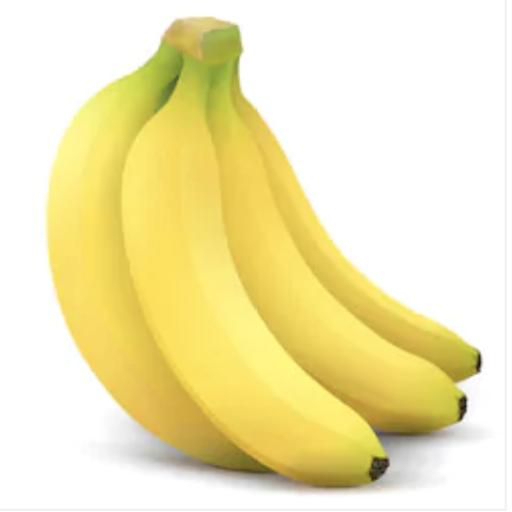banana: (123, 19, 387, 486), (209, 63, 466, 432), (48, 38, 265, 471), (234, 74, 481, 381)
